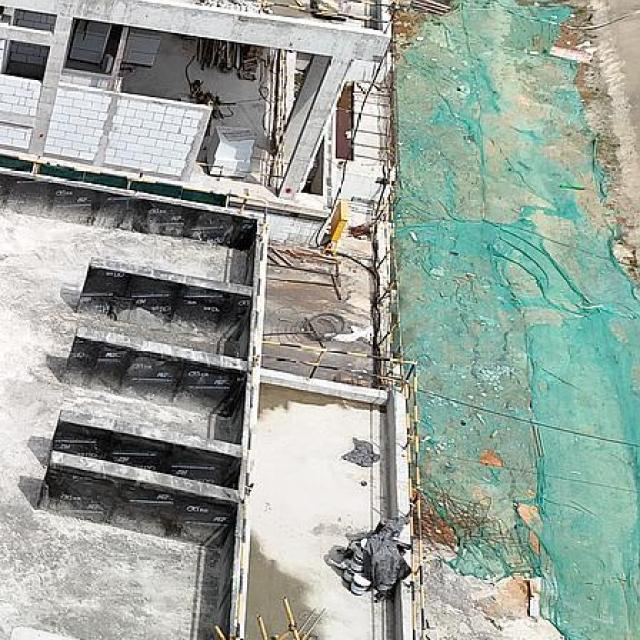edge_guardrail: (0, 153, 270, 640), (261, 338, 425, 640), (253, 0, 399, 34), (196, 142, 285, 178), (377, 215, 397, 362), (376, 194, 394, 253), (279, 49, 287, 132)
